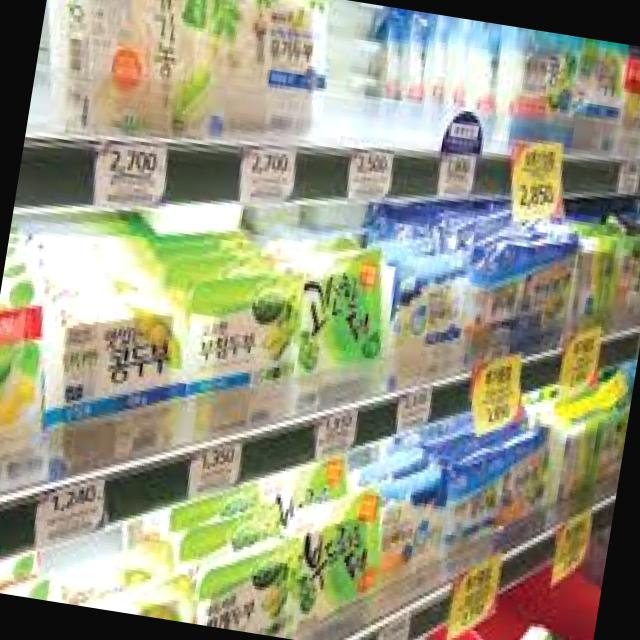tof: (39, 272, 194, 472), (284, 244, 399, 403), (381, 244, 487, 402), (272, 499, 387, 640)
